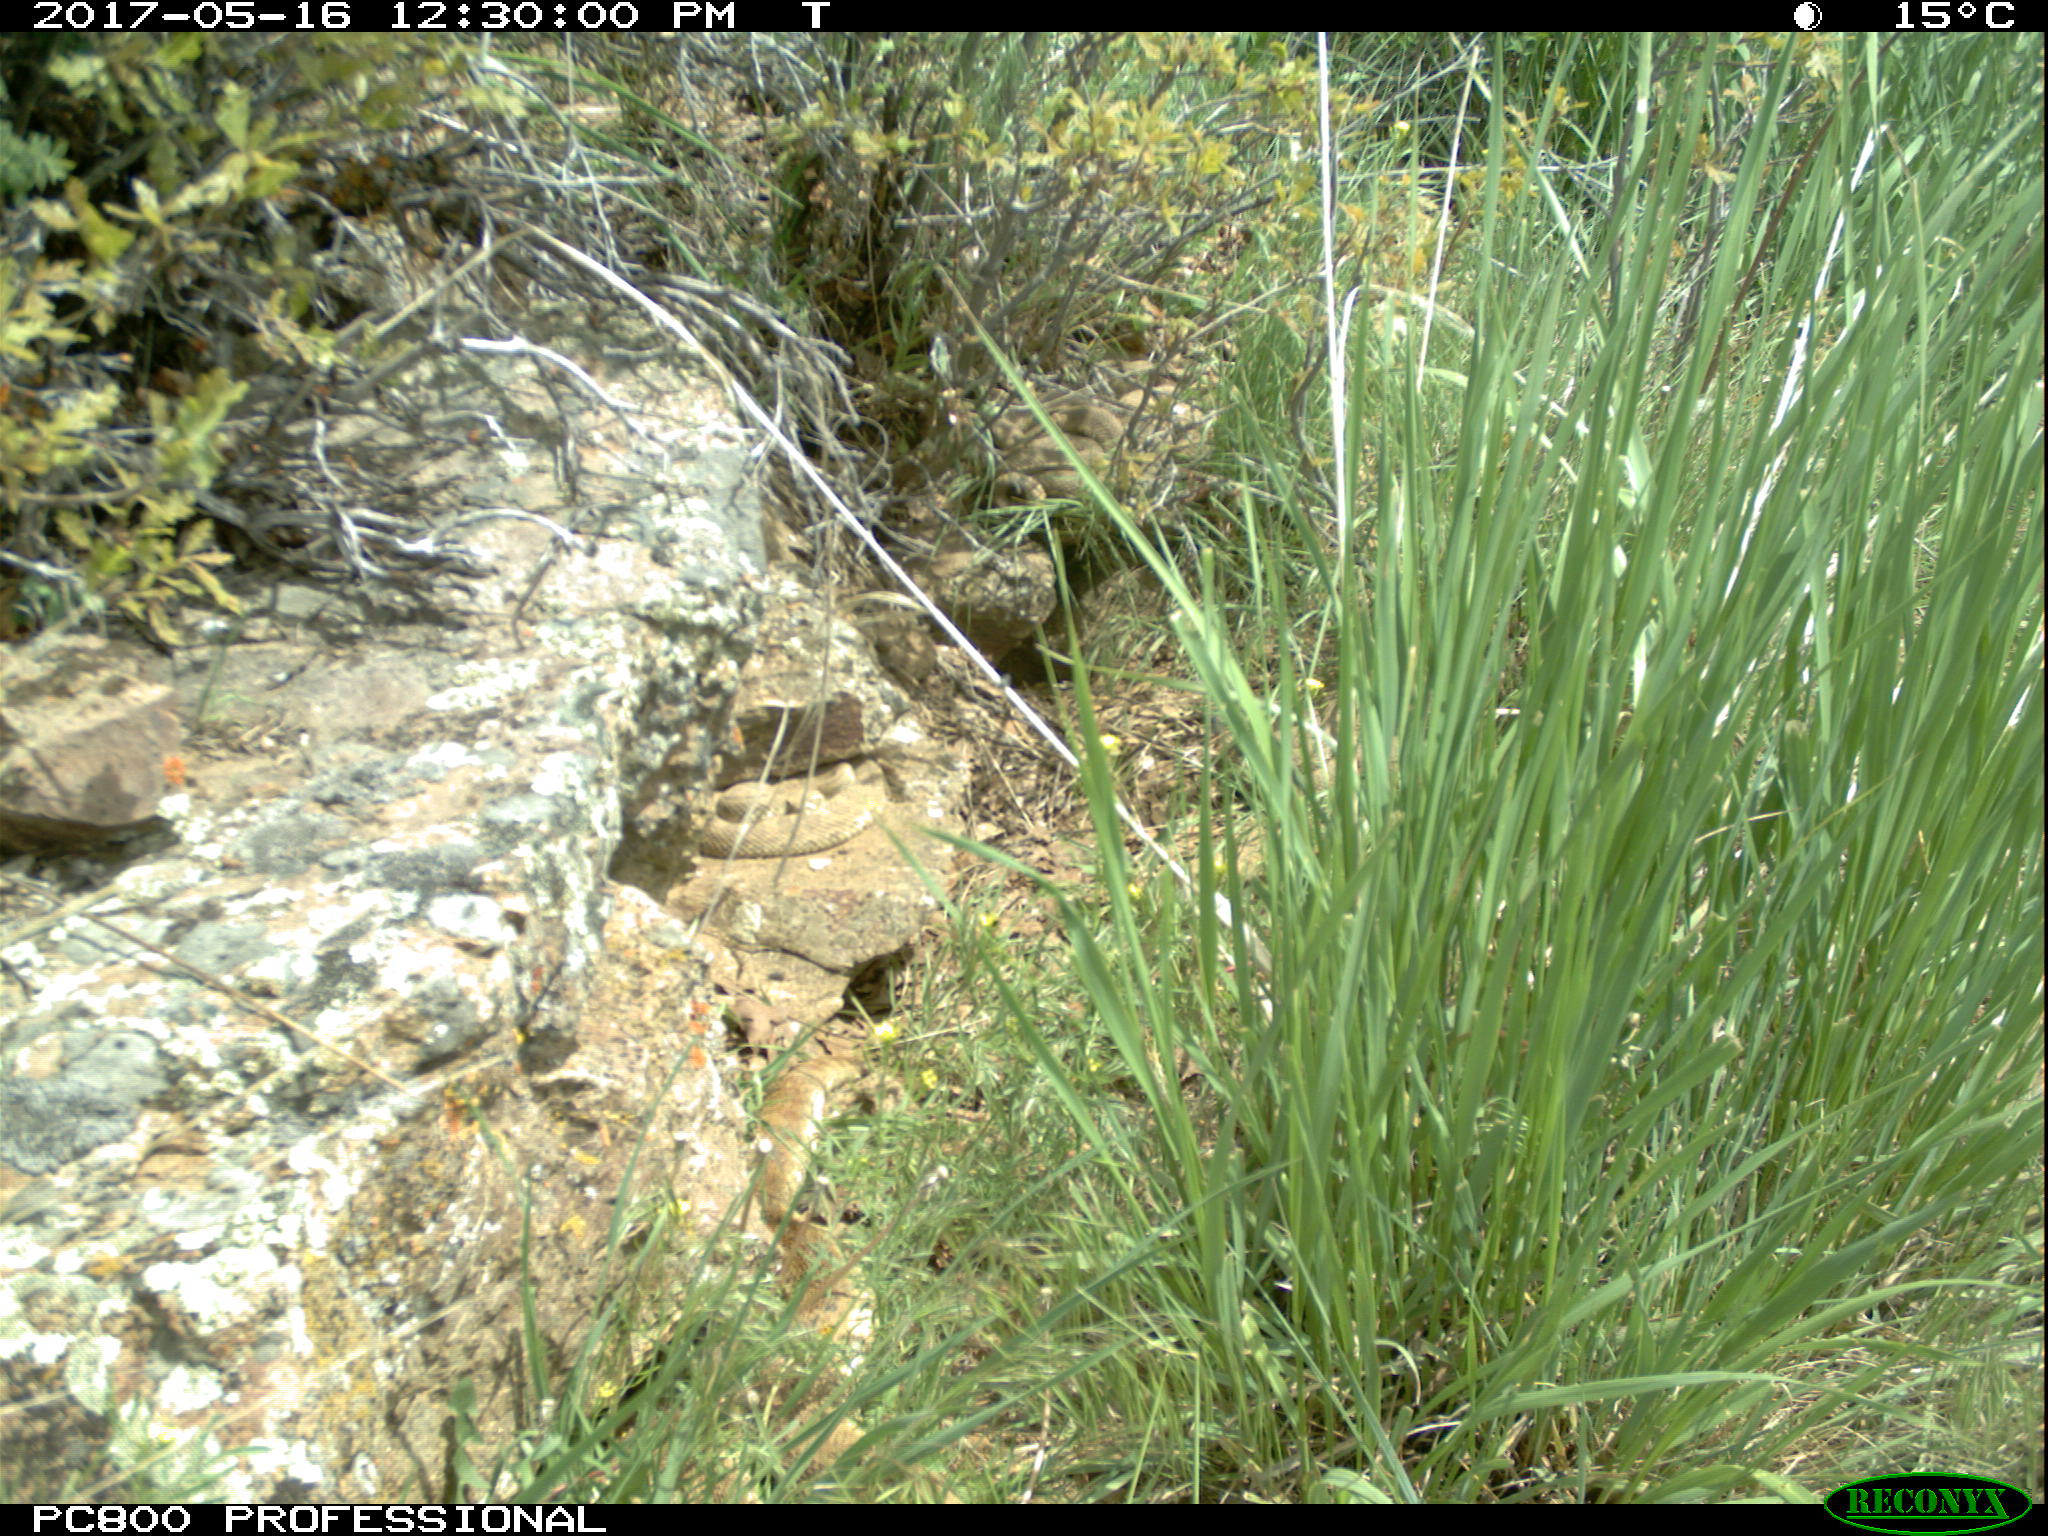snake: (755, 1055, 871, 1376), (972, 386, 1135, 523), (689, 760, 895, 858)
